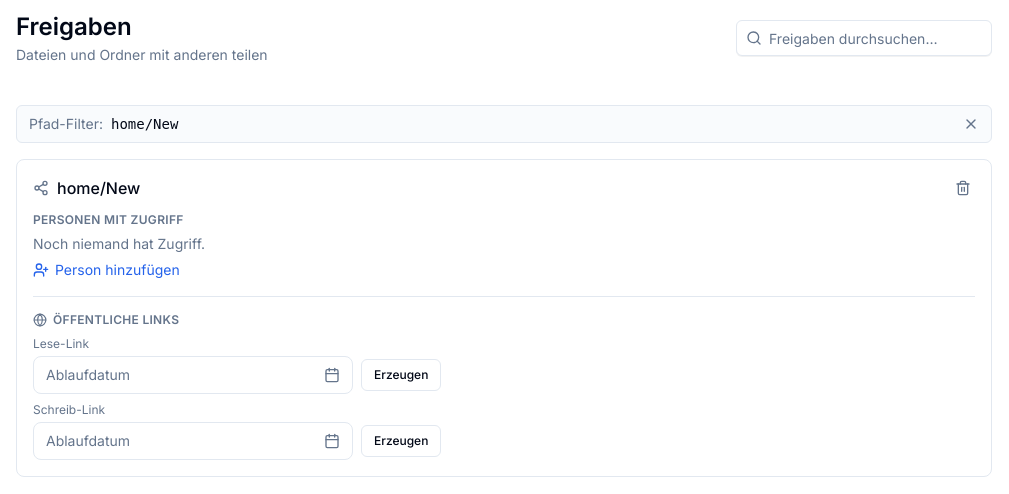
Test case: SharesPage — Ablaufdatum öffentlicher Links › zeigt das Ablaufdatum direkt nach dem Erzeugen an (Reload-Pfad)
The image size is (1009, 494).
Click the 1st button "Erzeugen" at point(401, 375), box [361, 359, 441, 391]
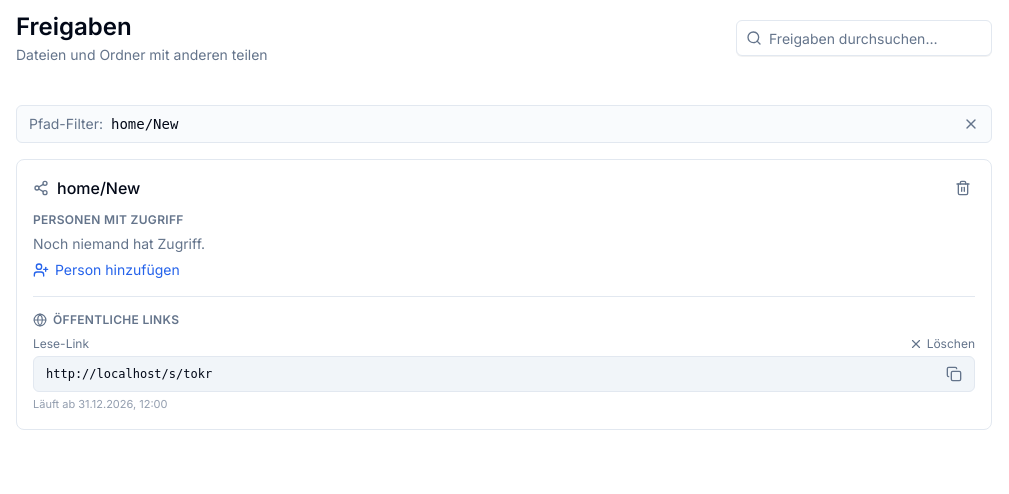
Now the text "Läuft ab 31.12.2026, 12:00" is shown, box [33, 397, 167, 411]
